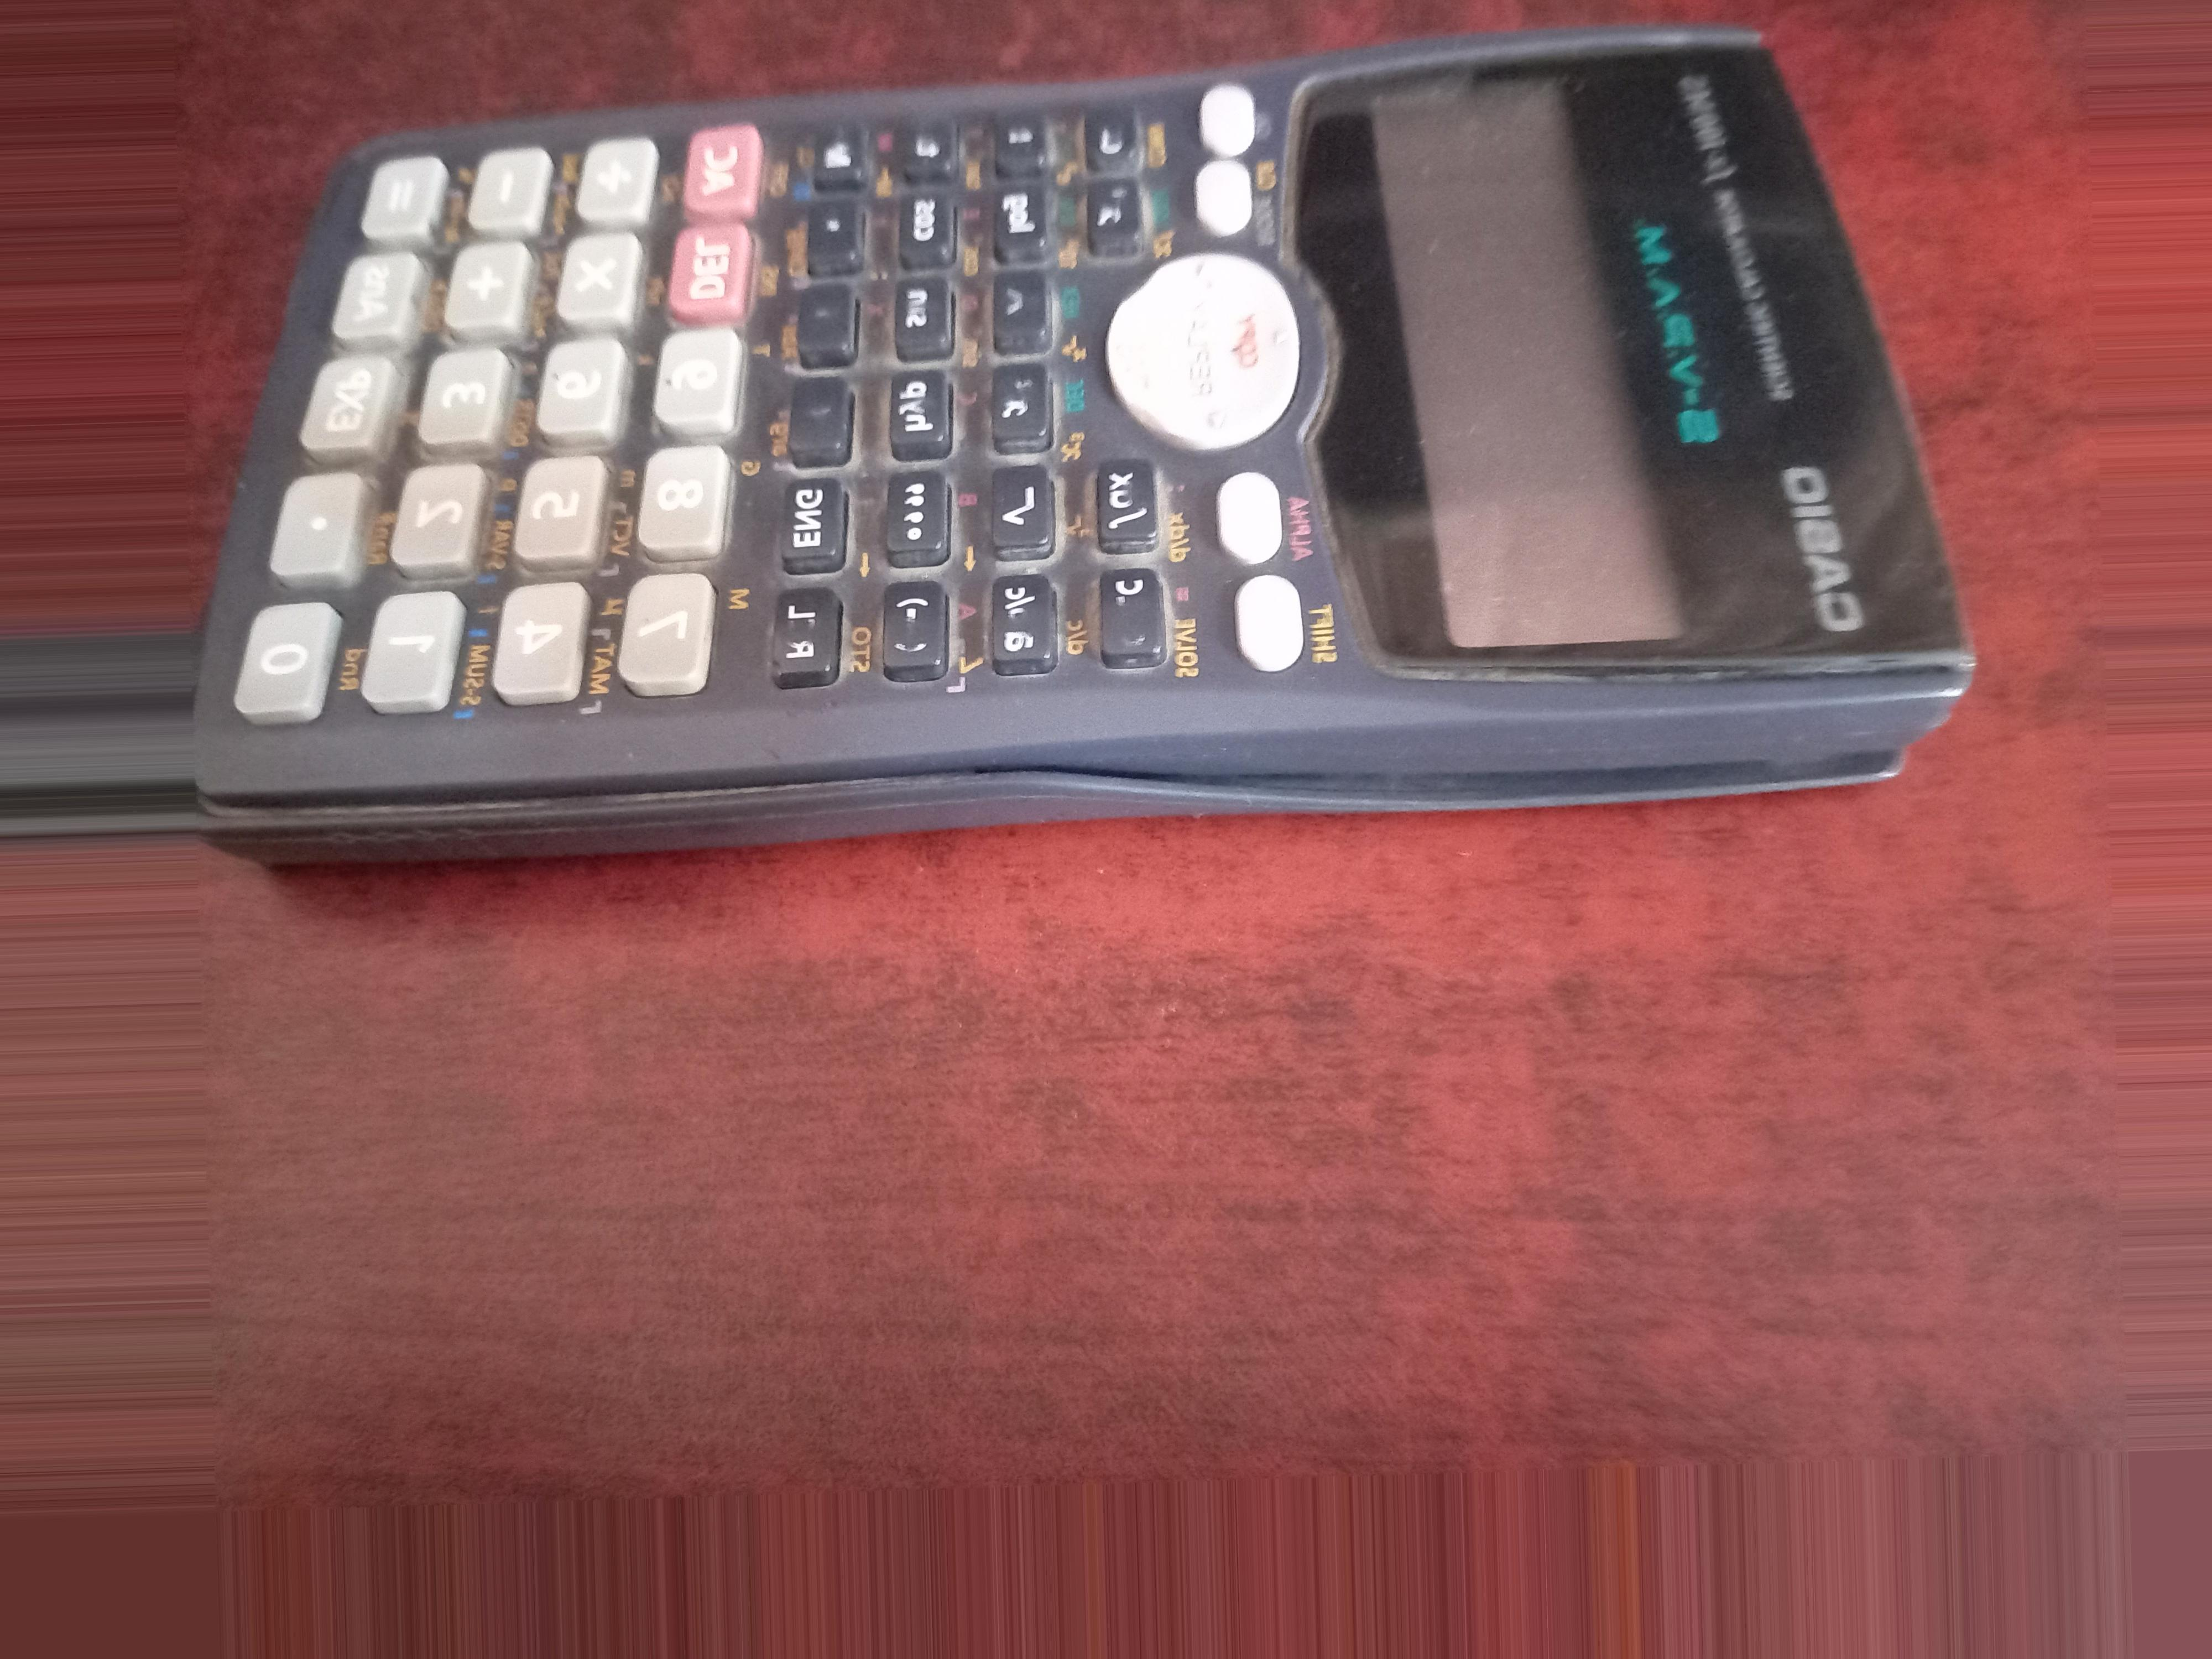calculator: (199, 54, 1940, 903)
